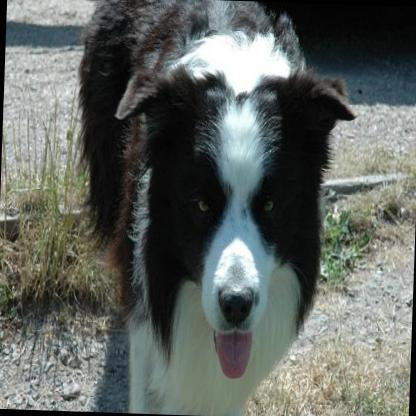collie: (65, 0, 360, 416)
